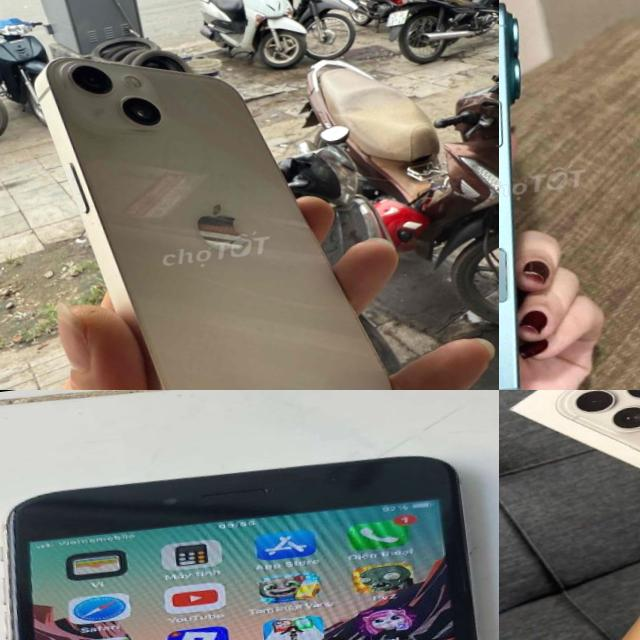gen_12_13: (24, 17, 413, 390)
gen_16: (499, 0, 582, 390)
gen_6: (0, 427, 499, 640)
